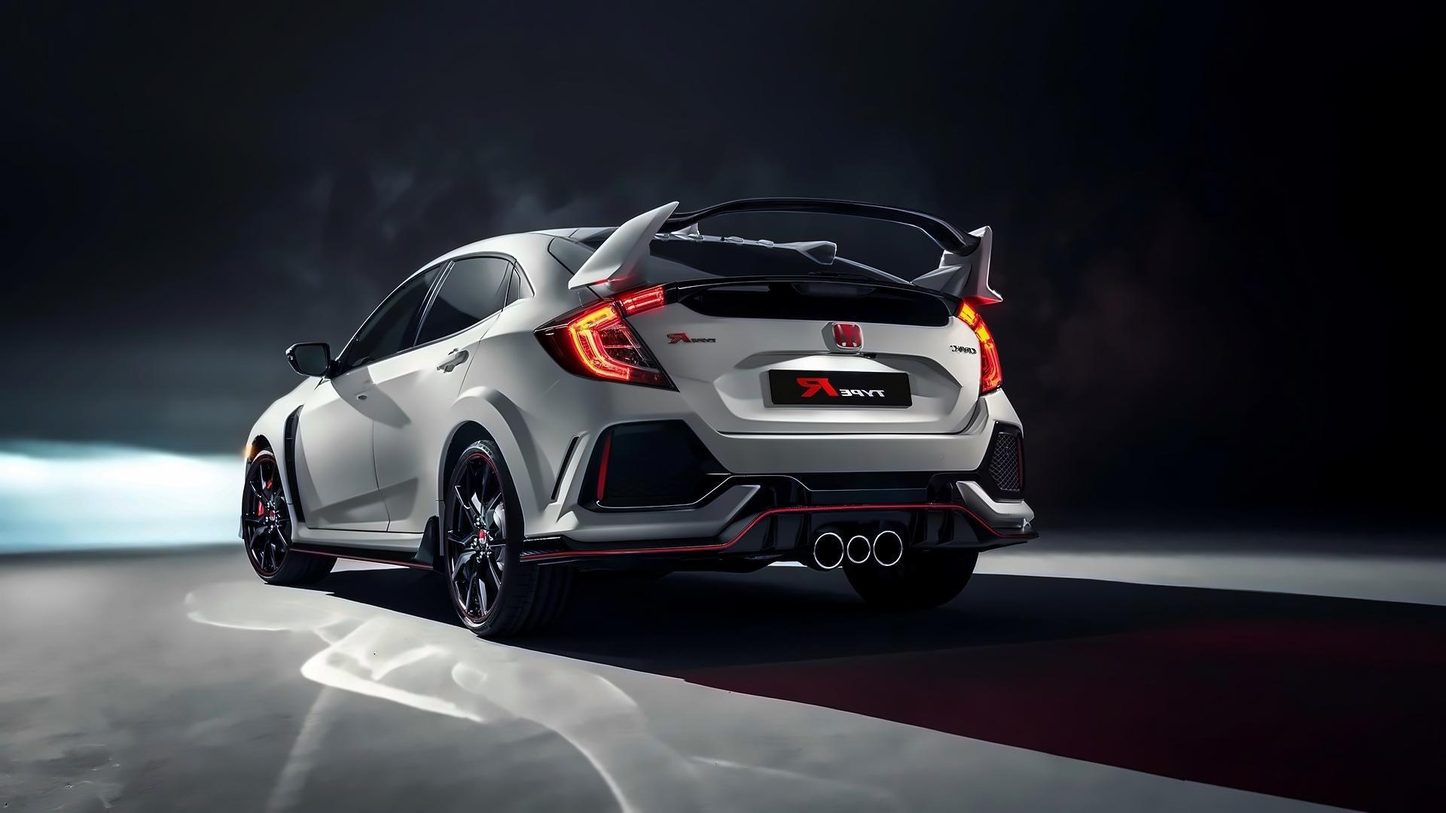Car boot: (619, 276, 992, 434)
Fender - -F-L-: (235, 359, 313, 550)
Fender - -R-L-: (445, 238, 587, 461)
Passenger-s door - -F-L-: (288, 222, 451, 575)
Passenger-s door - -R-L-: (364, 225, 522, 575)
Rear bumper: (500, 374, 1040, 579)
Rear light - -L-: (532, 281, 682, 395)
Rear light - -R-: (953, 301, 1002, 396)
Side bumper - -L-: (276, 521, 447, 578)
Side mirror - -L-: (285, 338, 340, 382)
